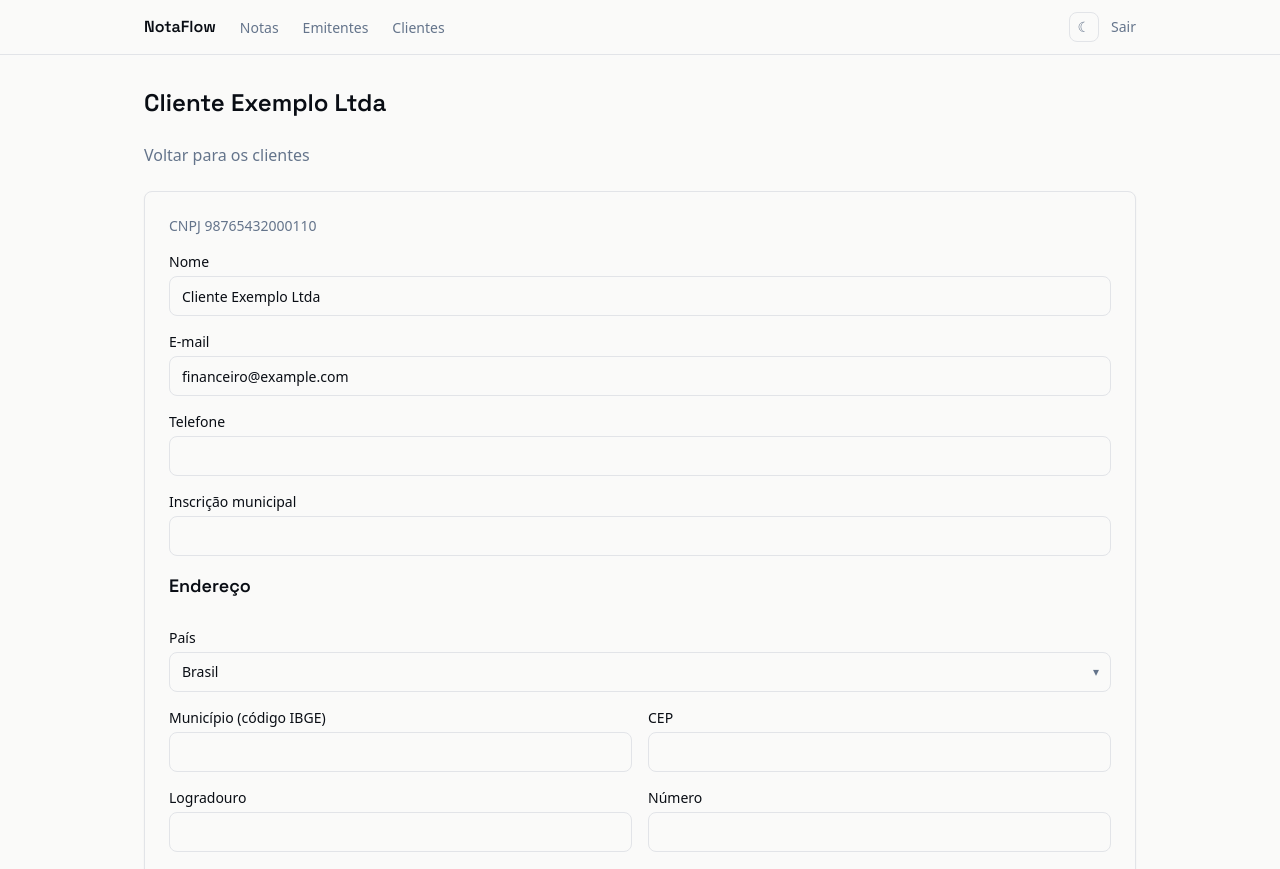
saving sends only the changed fields
Replace the text in the field labelled "E-mail" with "contas@example.com" at (640, 376), box [169,356,1111,396]
(page scrolled)
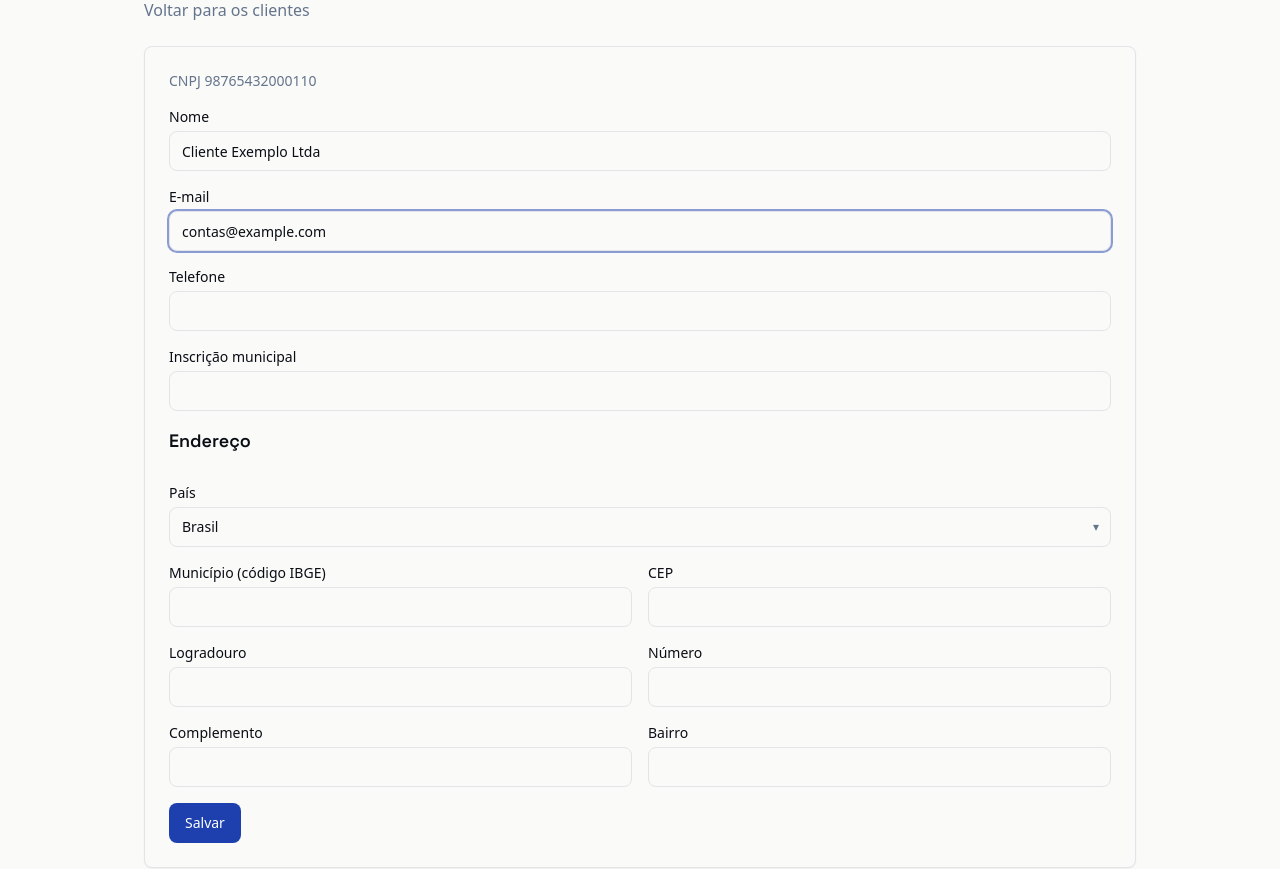
Click the button "Salvar" at (205, 823), box [169,803,241,843]
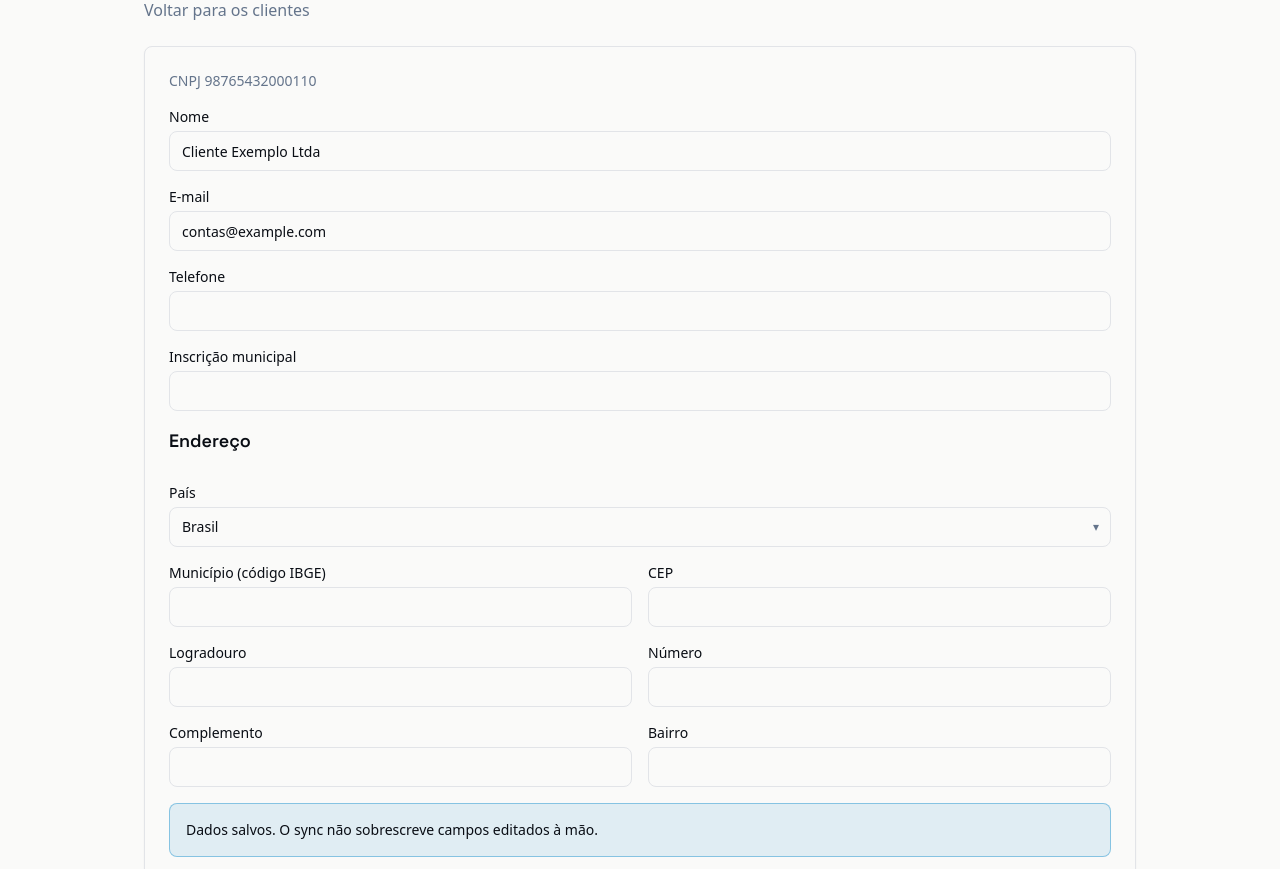
Expected: the text "Dados salvos. O sync não sobrescreve campos editados à mão." is shown, [169,803,1111,857]
